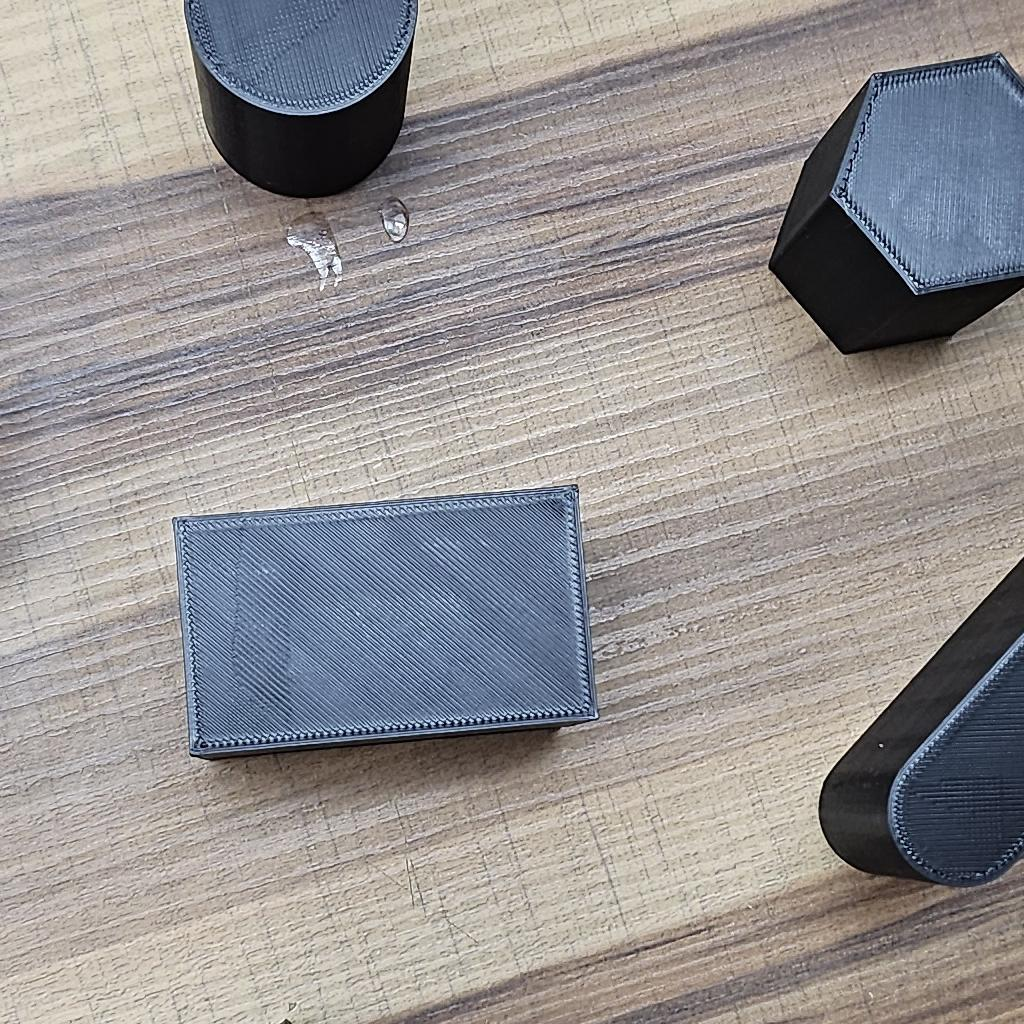circle: (143, 0, 465, 196)
rectangle: (136, 447, 625, 786)
